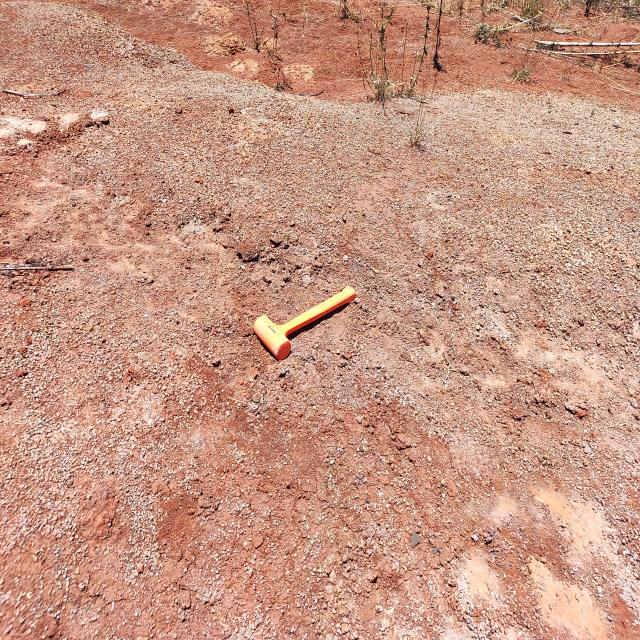Orange_hammer: (252, 284, 356, 360)
